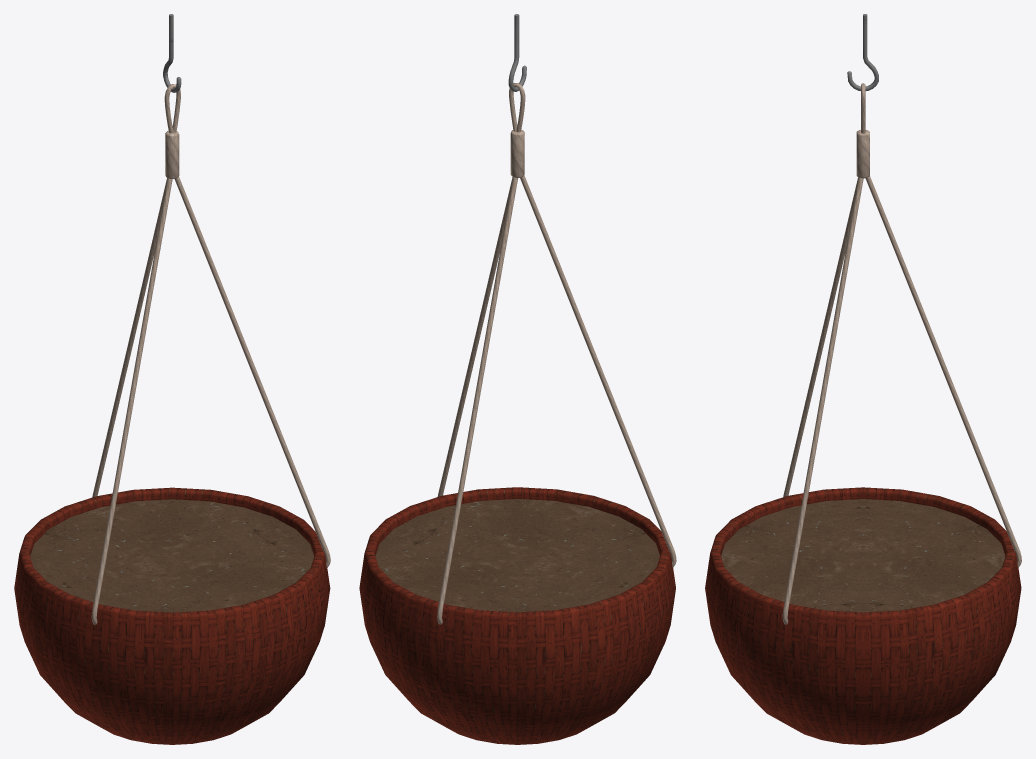
Rendered from GardenPot04_1.FBX.
The picture shows the model from 3 angles, left to right: view 1: azimuth 30°, elevation 25°; view 2: azimuth 150°, elevation 25°; view 3: azimuth 270°, elevation 25°; orthographic projection.
Parts seen in each view (by area): view 1: GardenPot04_1; view 2: GardenPot04_1; view 3: GardenPot04_1.
Part boxes in pixels (x1,y1,x2,y2): GardenPot04_1: (14, 14, 330, 744); GardenPot04_1: (359, 14, 676, 744); GardenPot04_1: (705, 14, 1021, 744).
Size of what is drawn, in the model's own units: 0.4359 by 1.06 by 0.4366.
